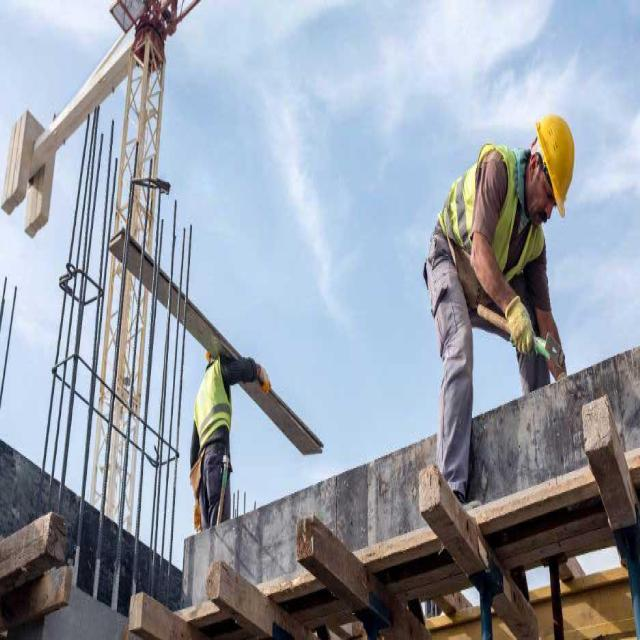gloves: (505, 292, 536, 358), (257, 360, 272, 398)
helmet: (533, 111, 575, 218)
vest: (441, 144, 547, 290), (190, 358, 234, 449)
